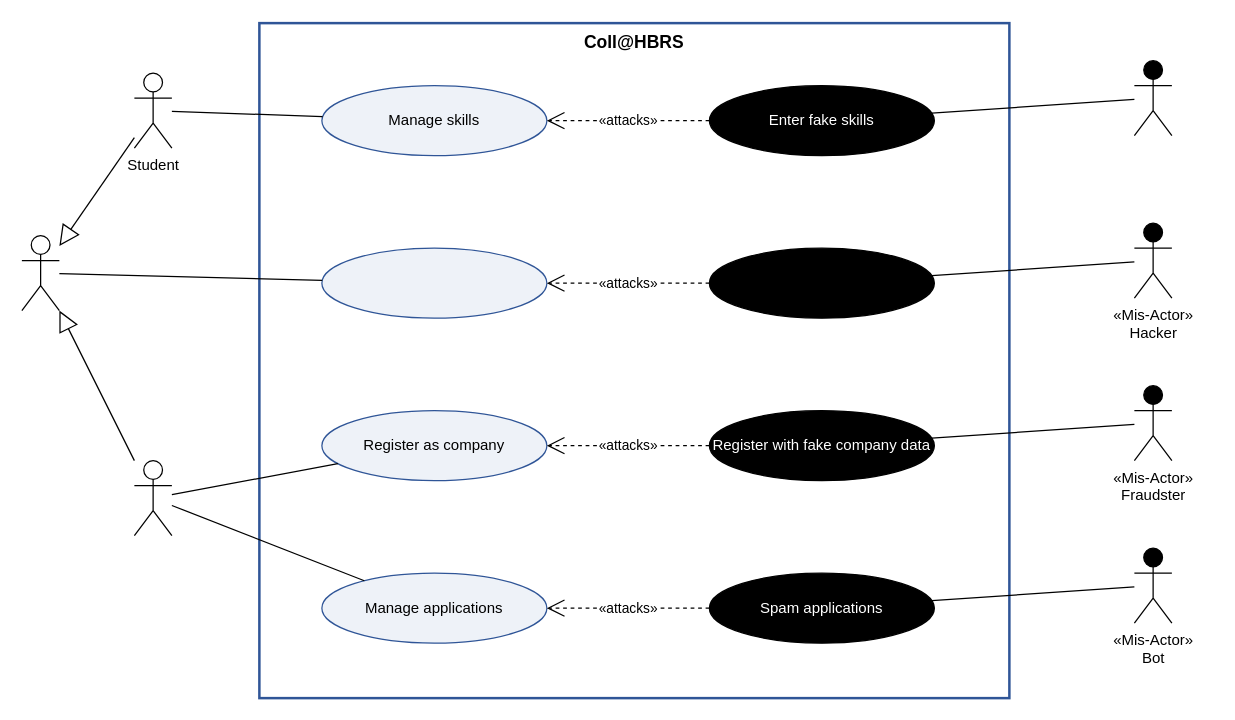
The diagram is 1235 pixels wide and 720 high, and some of its shapes have lost their labels. The shapes that lost their labels are listed below. From the top down, each one's centre as x and y in pixels, then its label:
At point (1152, 97): "«Mis-Actor» Dishonest student".
At point (40, 272): "User".
At point (434, 282): "Login".
At point (821, 282): "Steal login credentials".
At point (152, 497): "Company".
